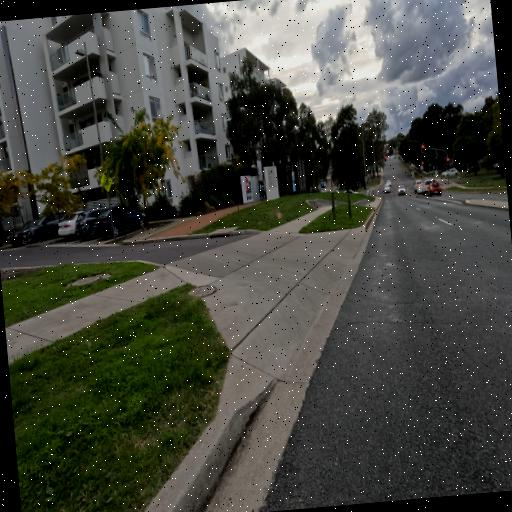kerb_cut: (209, 233, 373, 391)
